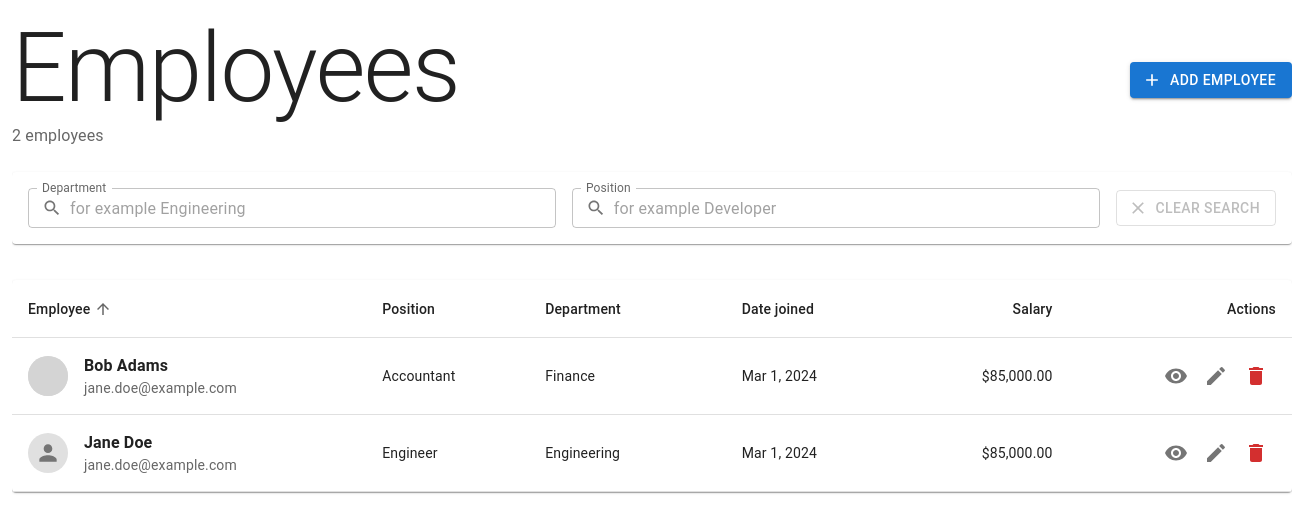
Test: EmployeeListPage: searching › "Clear search" returns to the full list at once and empties the boxes
Type "eng" into the field labelled "Department". click: (313, 208)
box: x1=70 y1=188 x2=556 y2=228
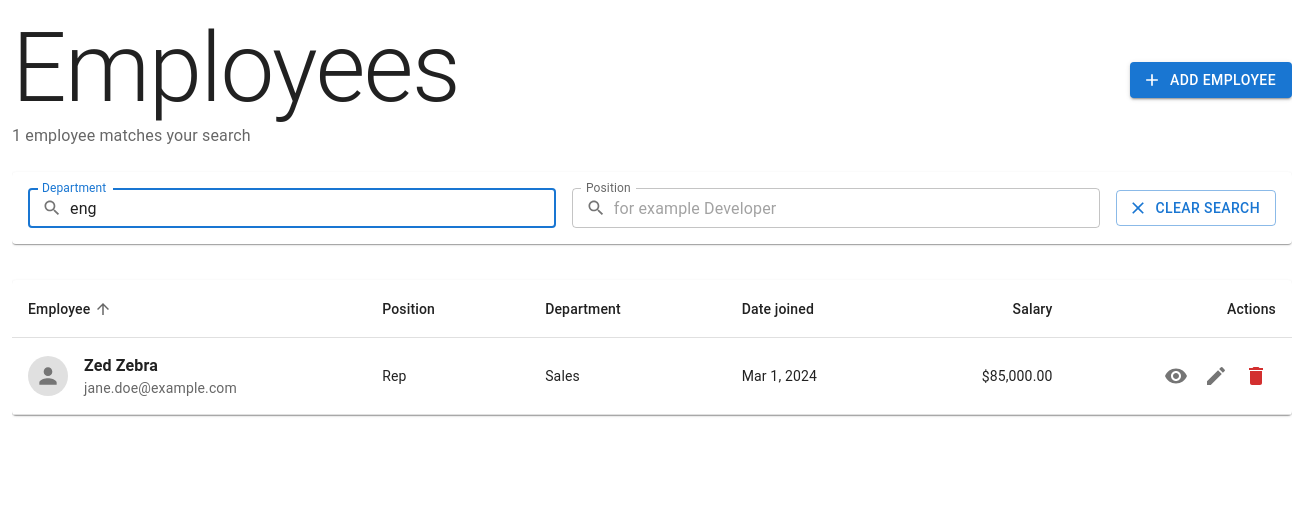
Now the row "Zed Zebra" is shown, box x1=12 y1=338 x2=1291 y2=415
Click the button "Clear search". click: (1196, 208)
box: x1=1116 y1=190 x2=1276 y2=226
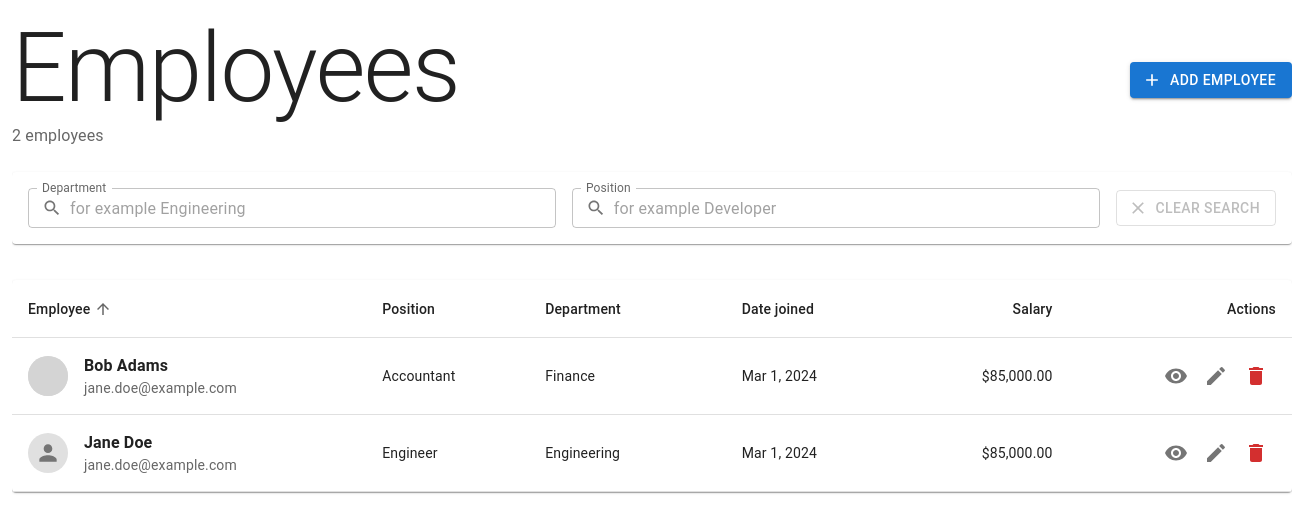
Now the field labelled "Department" is empty, box x1=70 y1=188 x2=556 y2=228
Now the row "Jane Doe" is shown, box x1=12 y1=415 x2=1291 y2=492
Now the text "Zed Zebra" is gone
